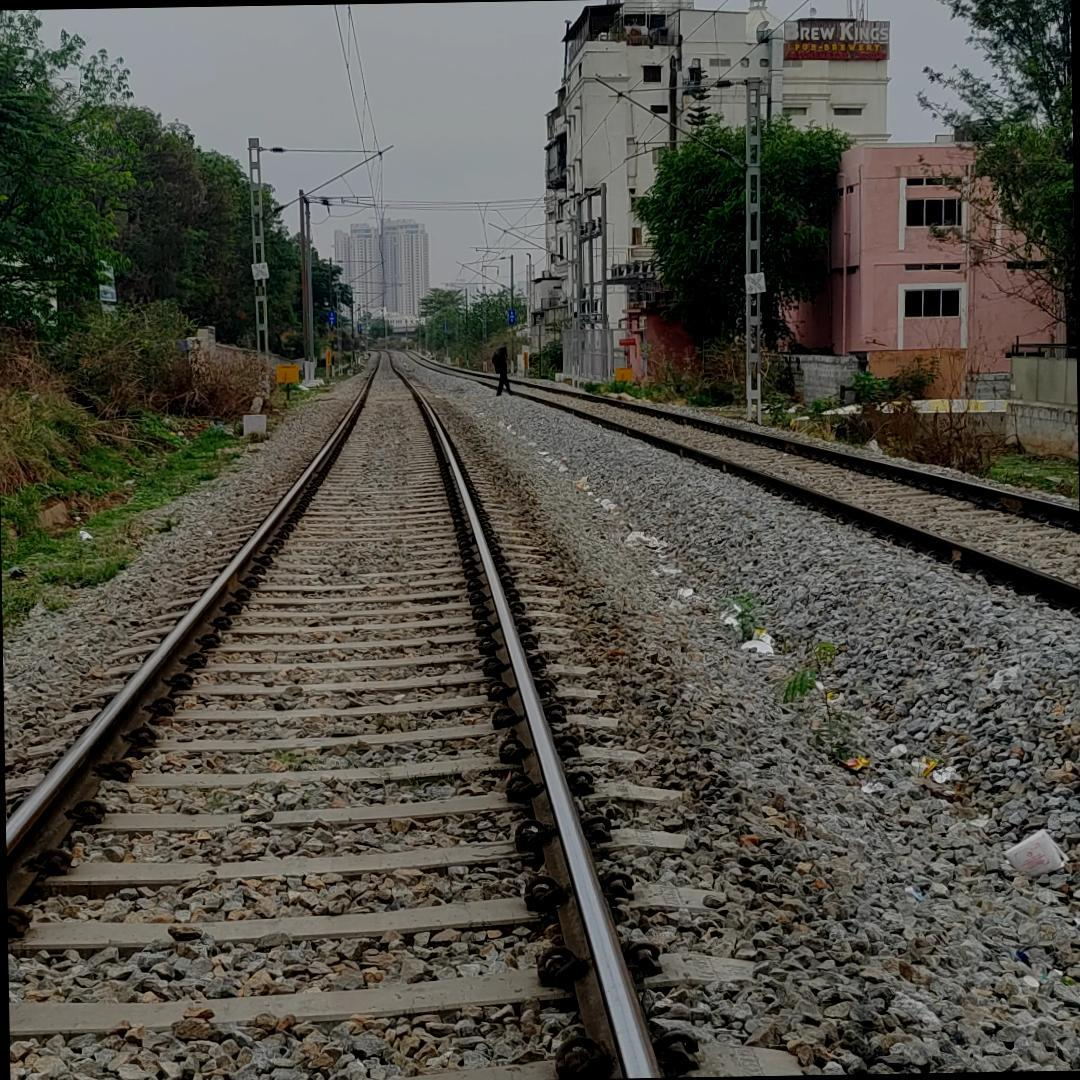standing: (489, 342, 512, 401)
track: (7, 338, 738, 1080)
